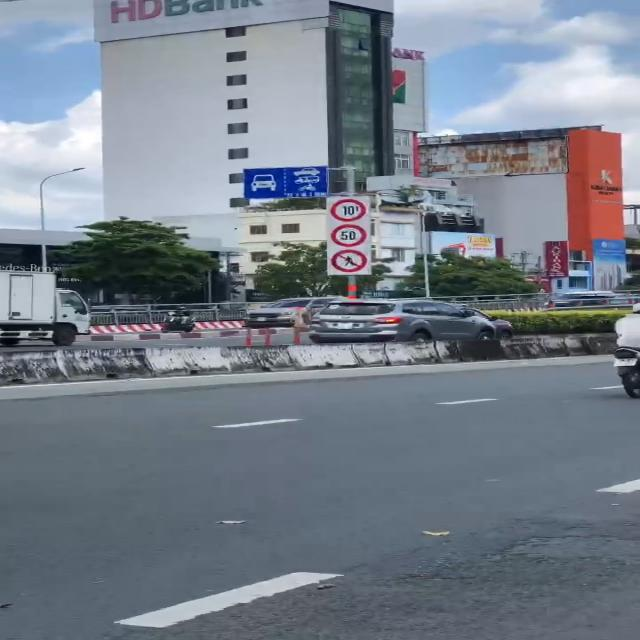Bien bao cam nguoi di bo: (328, 247, 374, 275)
Bien bao toc do toi da cho phep: (328, 224, 369, 247)
